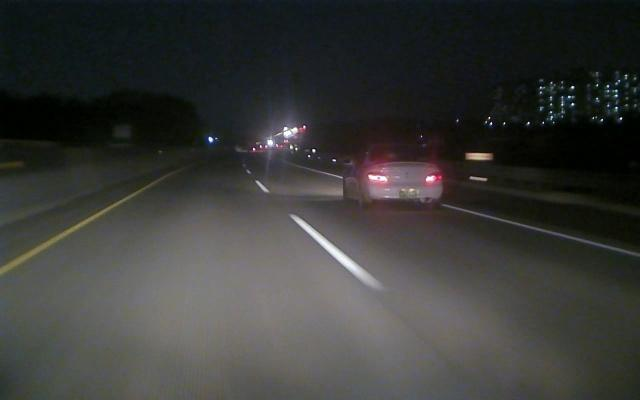lane: (247, 171, 389, 290), (441, 203, 638, 258), (3, 198, 127, 274)
